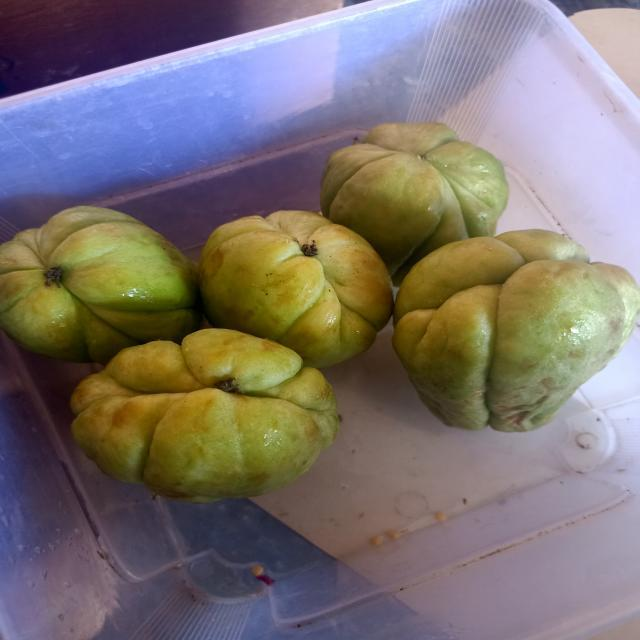Chayote: (387, 222, 639, 445), (56, 324, 345, 505), (316, 114, 513, 282), (0, 203, 198, 369)
